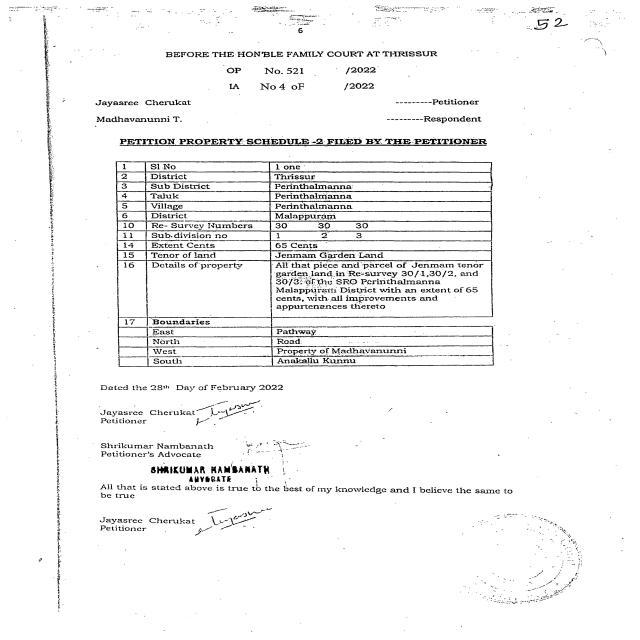page-number: (438, 0, 640, 97)
